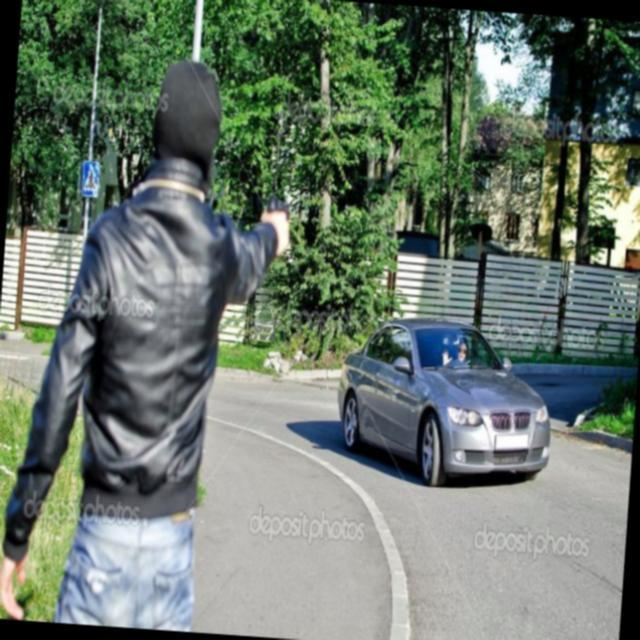weapon: (266, 190, 292, 223)
